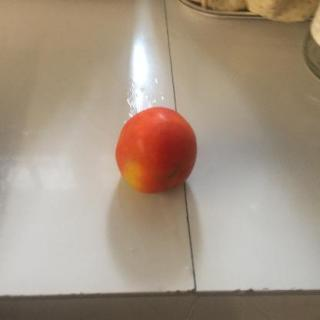Tomat: (109, 98, 209, 199)
